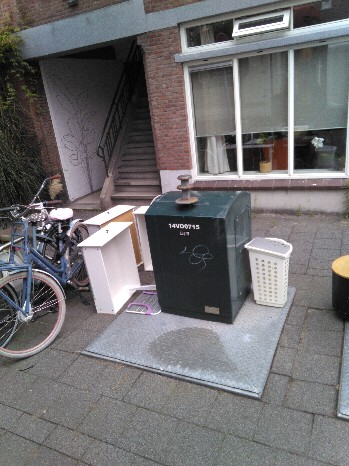Container: (159, 182, 242, 320)
Rest: (82, 231, 140, 313), (250, 237, 294, 307), (101, 207, 149, 266)
Voertuig: (5, 216, 81, 354)
